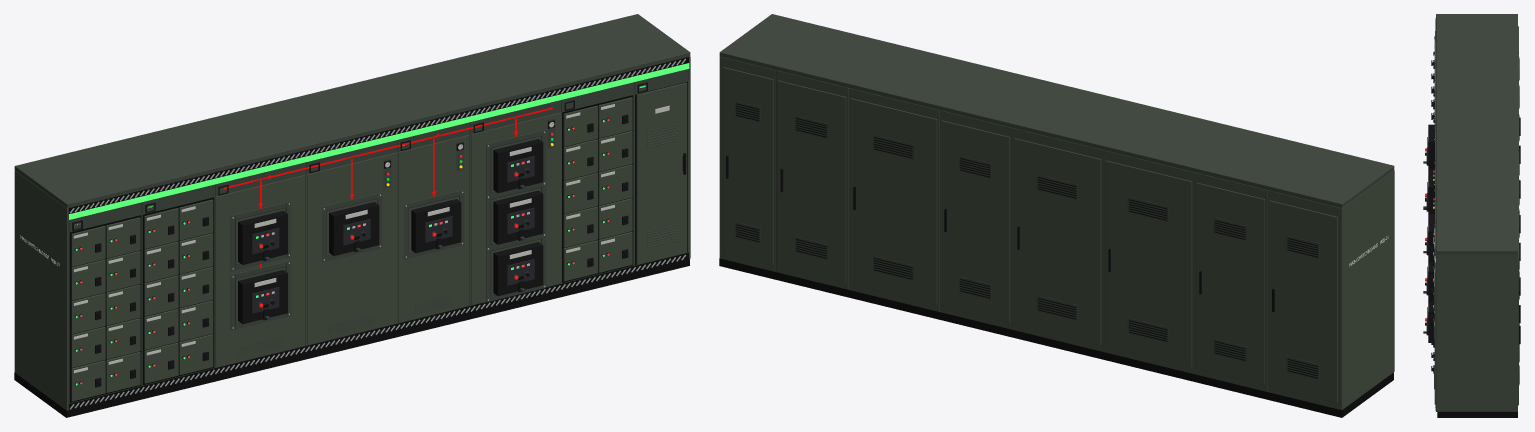
Rendered from main-switchboard-msb.glb.
3 renders of one model, left to right at view 1: azimuth 30°, elevation 25°; view 2: azimuth 150°, elevation 25°; view 3: azimuth 270°, elevation 25°, orthographic. The views are drawn at different scales.
Visible parts, largest first — view 1: MSB_Roof, MSB_S04_FrontPlate, MSB_End_L, MSB_S03_FrontPlate, MSB_S05_FrontPlate, MSB_S08_FrontDoor, MSB_S06_FrontPlate, MSB_Plinth, MSB_TrimBot_Back, MSB_BandGreen, MSB_TrimTop_Back, MSB_S06_ACB1 (+51 smaller); view 2: MSB_Roof, MSB_S04_RearDoor, MSB_S03_RearDoor, MSB_S06_RearDoor, MSB_S07_RearDoor, MSB_S05_RearDoor, MSB_S02_RearDoor, MSB_S01_RearDoor, MSB_End_L, MSB_S08_RearDoor, MSB_Plinth, MSB_S03_Body (+13 smaller); view 3: MSB_Roof, MSB_End_R, MSB_Plinth, MSB_S03_ACB1, MSB_S06_ACB1, MSB_S04_ACB1, MSB_S08_FrontDoor, MSB_S06_ACB2, MSB_S06_ACB3, MSB_TrimTop_Back, MSB_TrimTop_Lattice, MSB_S08_RearDoor (+1 smaller).
Boxes of the visible parts, bbox=[...] form: MSB_Roof: bbox=[14, 14, 690, 208]; MSB_S04_FrontPlate: bbox=[307, 153, 396, 345]; MSB_End_L: bbox=[14, 170, 68, 410]; MSB_S03_FrontPlate: bbox=[215, 175, 305, 367]; MSB_S05_FrontPlate: bbox=[398, 135, 469, 323]; MSB_S08_FrontDoor: bbox=[636, 82, 687, 264]; MSB_S06_FrontPlate: bbox=[471, 113, 560, 305]; MSB_Plinth: bbox=[14, 259, 689, 417]; MSB_TrimBot_Back: bbox=[69, 252, 688, 410]; MSB_BandGreen: bbox=[69, 63, 689, 219]; MSB_TrimTop_Back: bbox=[69, 57, 688, 213]; MSB_S06_ACB1: bbox=[486, 129, 546, 199]; MSB_Roof: bbox=[719, 14, 1394, 207]; MSB_S04_RearDoor: bbox=[1014, 138, 1101, 345]; MSB_S03_RearDoor: bbox=[1105, 160, 1192, 367]; MSB_S06_RearDoor: bbox=[850, 98, 937, 305]; MSB_S07_RearDoor: bbox=[777, 80, 846, 282]; MSB_S05_RearDoor: bbox=[941, 120, 1010, 322]; MSB_S02_RearDoor: bbox=[1196, 182, 1264, 385]; MSB_S01_RearDoor: bbox=[1269, 200, 1337, 402]; MSB_End_L: bbox=[1340, 170, 1394, 409]; MSB_S08_RearDoor: bbox=[723, 67, 773, 265]; MSB_Plinth: bbox=[719, 258, 1393, 417]; MSB_S03_Body: bbox=[1103, 150, 1194, 373]; MSB_Roof: bbox=[1436, 14, 1517, 254]; MSB_End_R: bbox=[1436, 254, 1517, 411]; MSB_Plinth: bbox=[1437, 412, 1517, 417]; MSB_S03_ACB1: bbox=[1423, 116, 1435, 169]; MSB_S06_ACB1: bbox=[1423, 205, 1435, 262]; MSB_S04_ACB1: bbox=[1423, 169, 1435, 213]; MSB_S08_FrontDoor: bbox=[1432, 254, 1435, 404]; MSB_S06_ACB2: bbox=[1423, 260, 1434, 302]; MSB_S06_ACB3: bbox=[1423, 300, 1434, 342]; MSB_TrimTop_Back: bbox=[1435, 18, 1435, 257]; MSB_TrimTop_Lattice: bbox=[1435, 20, 1435, 254]; MSB_S08_RearDoor: bbox=[1518, 241, 1518, 405].
Bounding box in the file's own units: 6.85 × 2.25 × 1.19.
